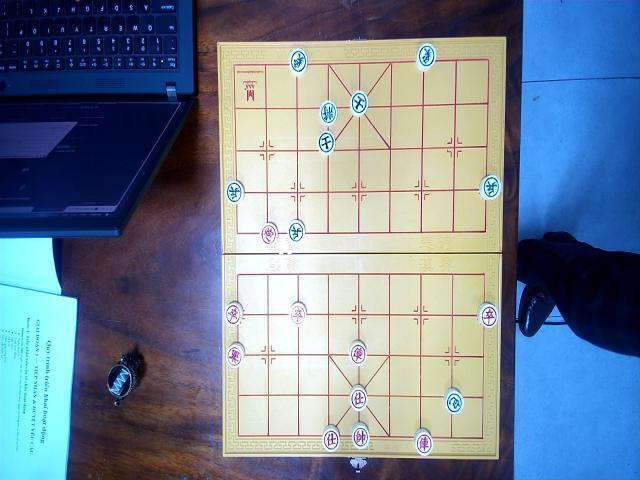piece: (415, 42, 437, 71), (479, 173, 501, 201), (288, 47, 308, 76), (477, 302, 498, 329), (444, 387, 464, 415), (413, 428, 433, 456), (321, 425, 341, 452), (225, 341, 245, 368), (224, 178, 244, 205), (318, 99, 338, 126), (351, 422, 370, 449), (349, 384, 367, 412), (224, 300, 243, 326), (350, 89, 368, 116), (349, 340, 367, 366), (317, 130, 335, 155), (290, 301, 307, 326), (260, 223, 278, 245), (289, 219, 305, 243)
